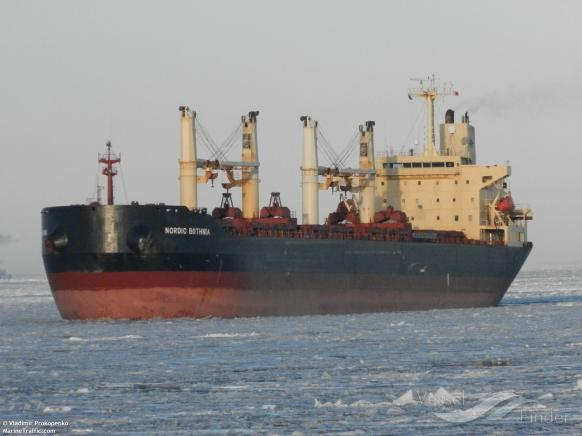OCR: (160, 223, 218, 238)
